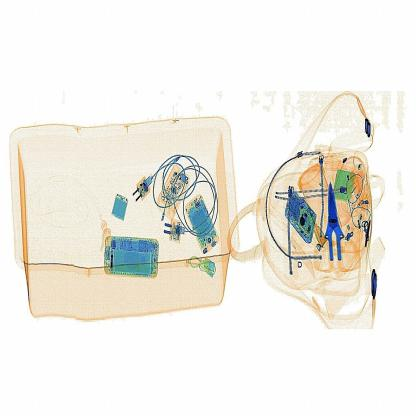gun: (315, 174, 368, 282)
